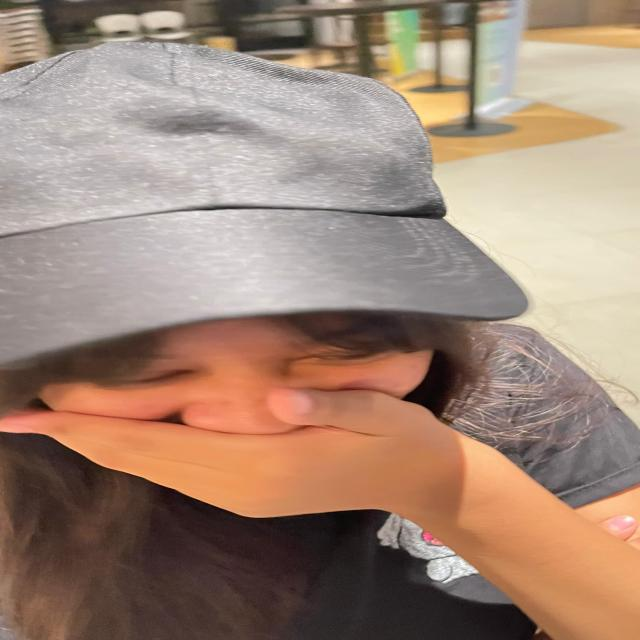3_gorra: (3, 40, 535, 372)
